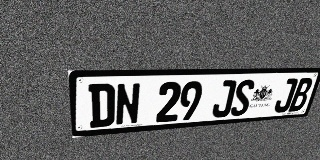2: (156, 81, 182, 122)
9: (178, 81, 204, 121)
B: (288, 78, 314, 112)
D: (88, 83, 115, 128)
J: (211, 80, 237, 118), (273, 78, 299, 113)
N: (115, 83, 141, 126)
S: (229, 79, 256, 116)
